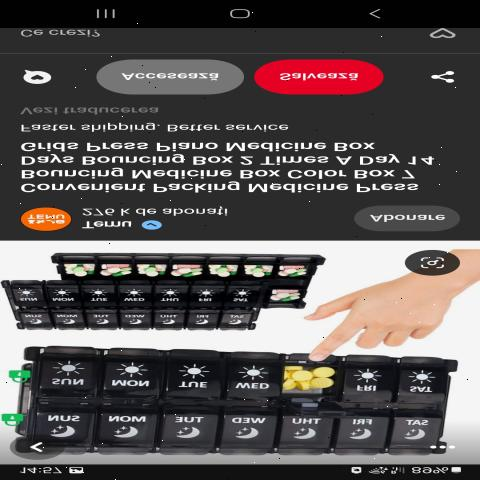PillBox: (13, 350, 479, 458), (2, 247, 350, 339)
